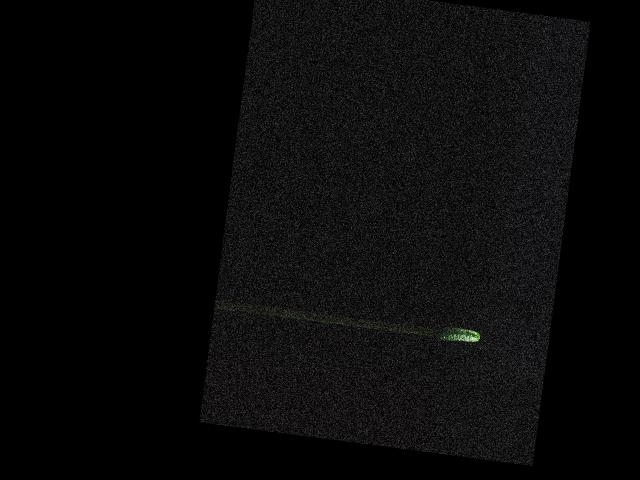cucumber: (438, 325, 481, 345)
